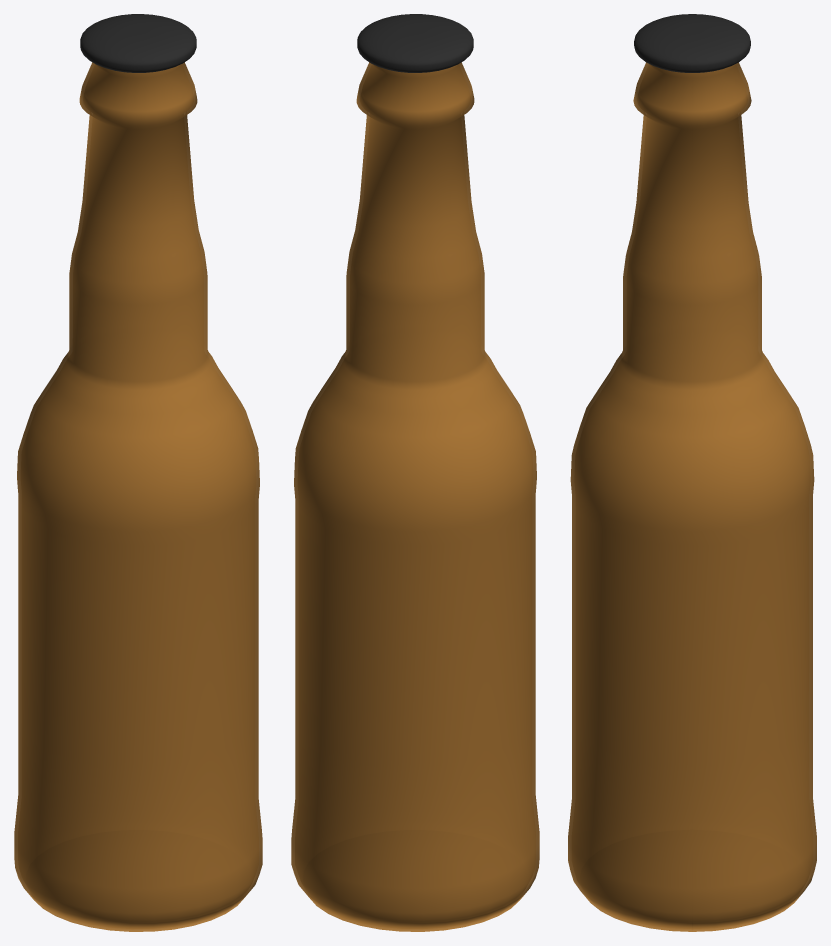
Rendered from bearBottle8.gltf.
3 views of the same model, side by side, from view 1: azimuth 30°, elevation 25°; view 2: azimuth 150°, elevation 25°; view 3: azimuth 270°, elevation 25° (orthographic).
Parts seen in each view (by area): view 1: Cylinder, Cylinder.001; view 2: Cylinder, Cylinder.001; view 3: Cylinder, Cylinder.001.
Boxes of the visible parts, left/top/right/bottom form: Cylinder: left=14, top=62, right=262, bottom=931; Cylinder.001: left=80, top=14, right=196, bottom=72; Cylinder: left=291, top=62, right=539, bottom=931; Cylinder.001: left=357, top=14, right=473, bottom=72; Cylinder: left=568, top=62, right=816, bottom=931; Cylinder.001: left=634, top=14, right=750, bottom=72.
Size of the model in its own units: 1.6 by 6.09 by 1.6.
